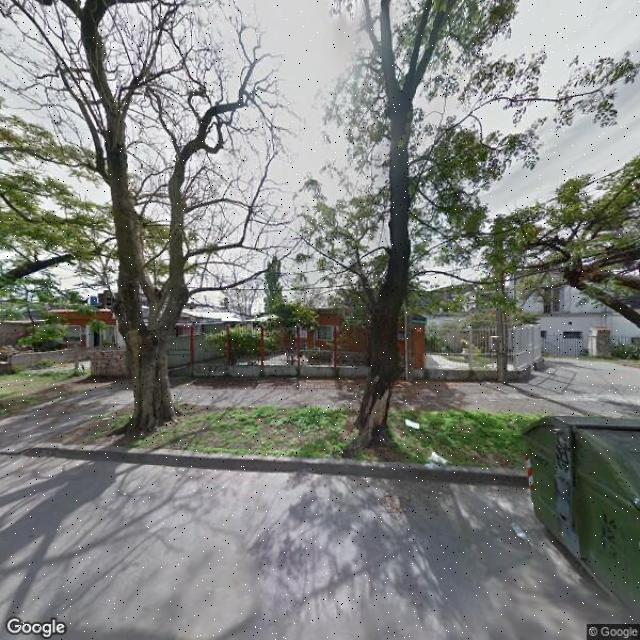garbage container: (512, 411, 640, 618)
